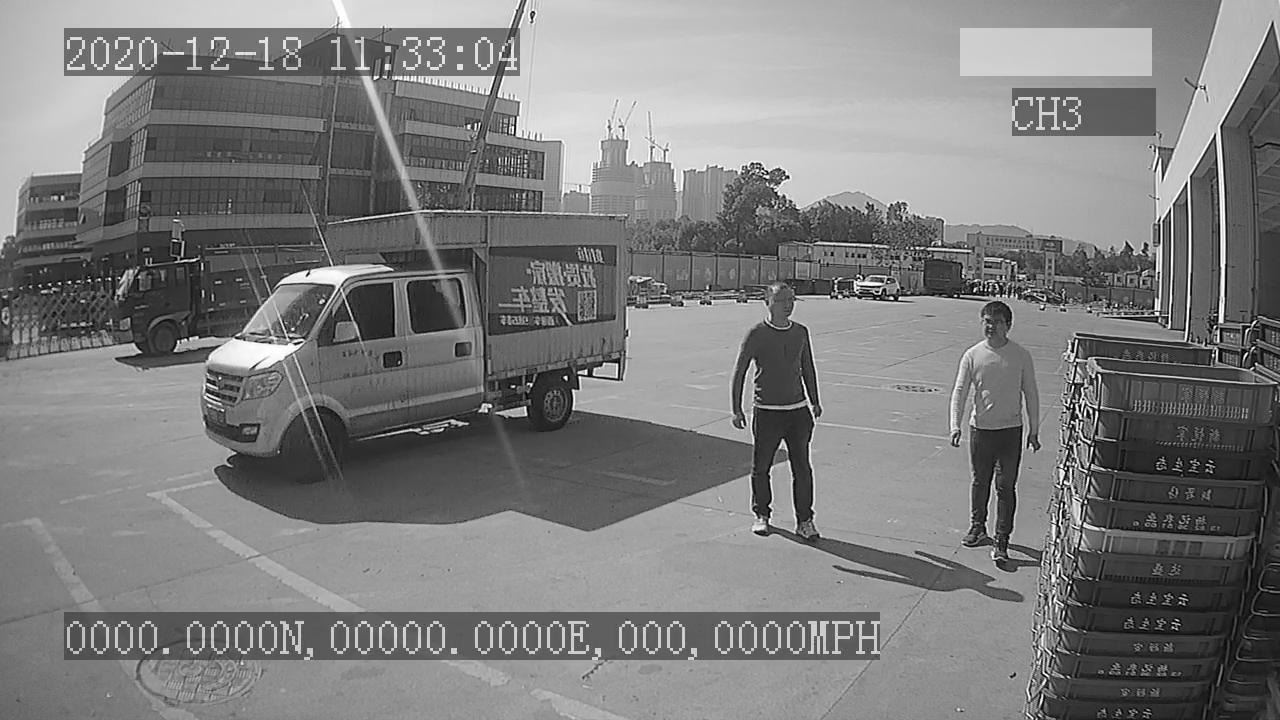person: (730, 280, 833, 542), (946, 294, 1042, 564)
